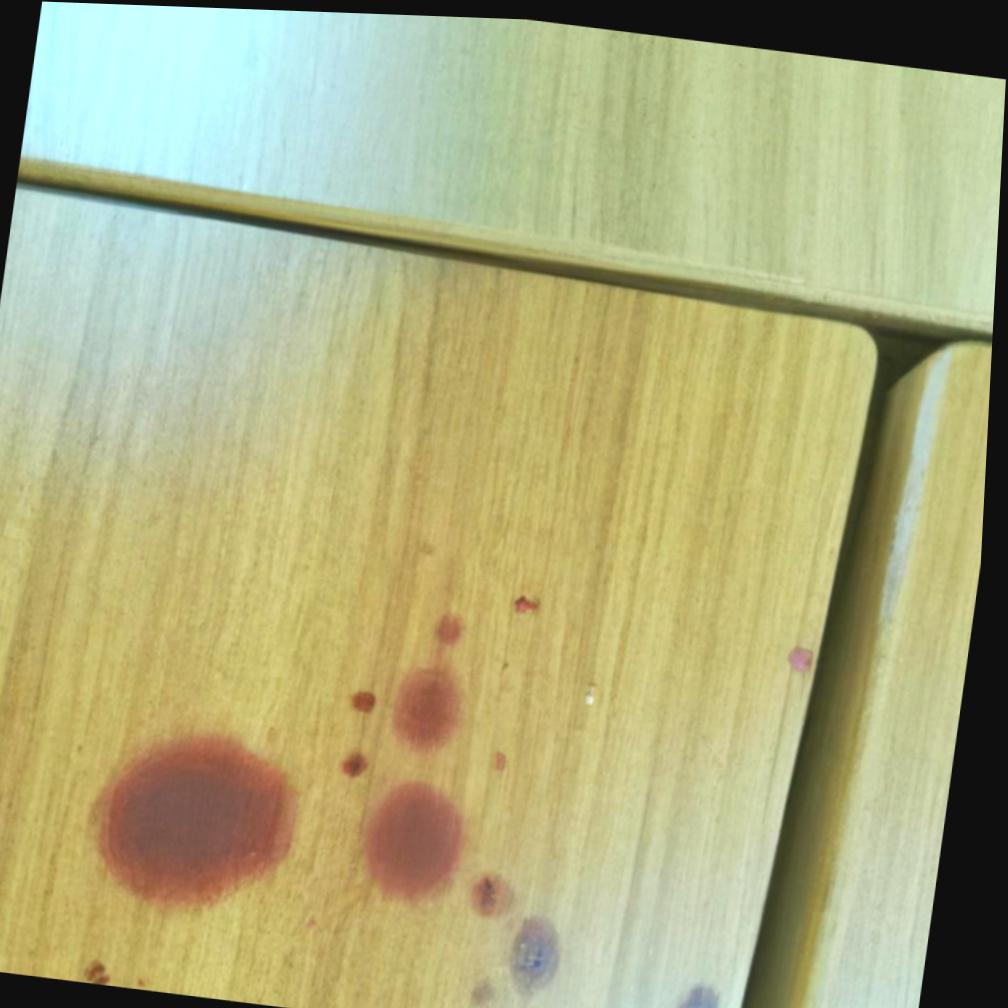Fire: (104, 730, 310, 907), (372, 776, 477, 902), (399, 609, 474, 754), (478, 868, 526, 915), (350, 750, 378, 776), (360, 689, 384, 711)
